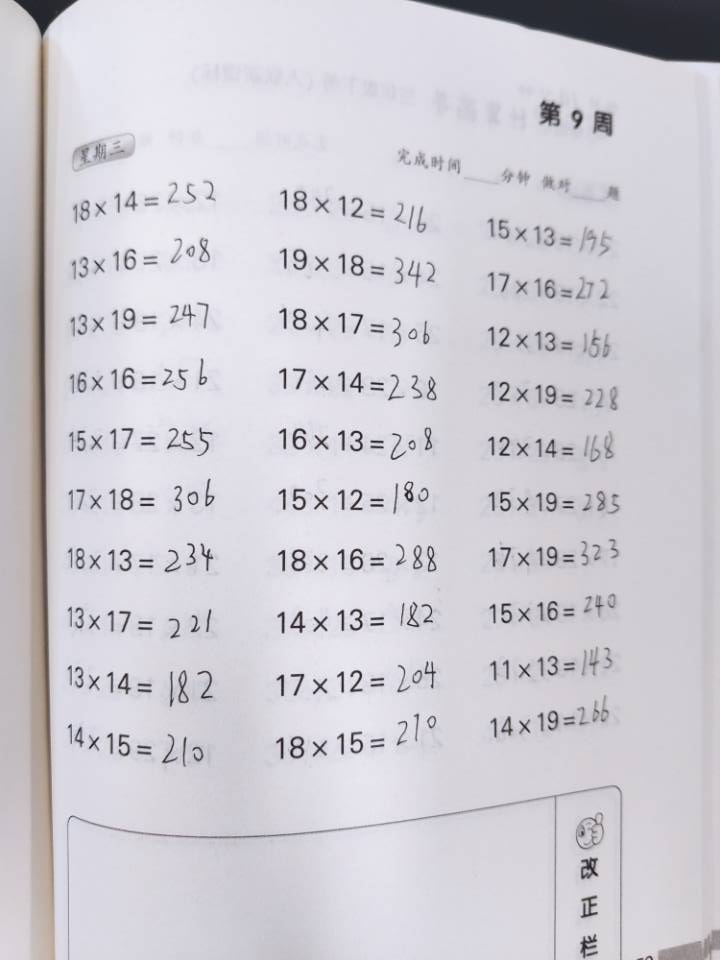equation: (136, 363, 178, 613), (172, 635, 212, 895), (238, 85, 278, 345), (358, 89, 398, 349), (490, 363, 530, 623), (532, 355, 572, 615), (490, 628, 530, 888), (182, 351, 221, 611), (357, 363, 396, 623), (313, 357, 352, 617), (265, 359, 304, 619), (225, 356, 264, 616), (225, 627, 264, 887), (278, 88, 317, 348), (195, 85, 234, 345), (397, 93, 436, 353), (317, 87, 356, 347), (354, 625, 393, 885), (399, 364, 438, 624), (477, 91, 516, 351), (439, 91, 478, 351), (519, 83, 558, 343), (446, 367, 485, 627), (403, 627, 442, 887), (450, 623, 489, 883), (538, 625, 577, 885), (266, 623, 304, 883), (308, 624, 346, 884), (130, 641, 170, 877), (157, 120, 194, 317)
